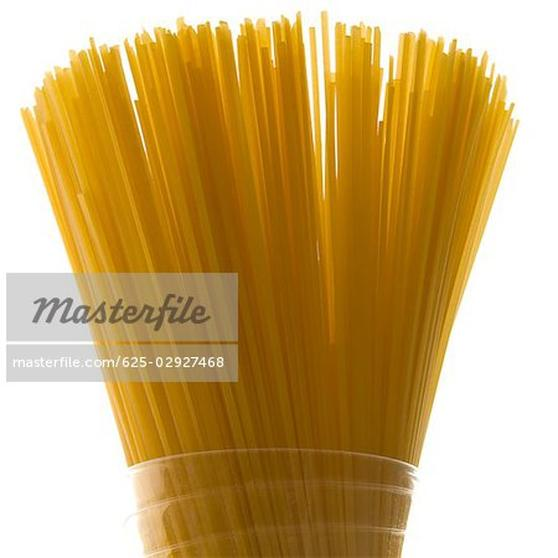spaghetti: (242, 19, 519, 467)
